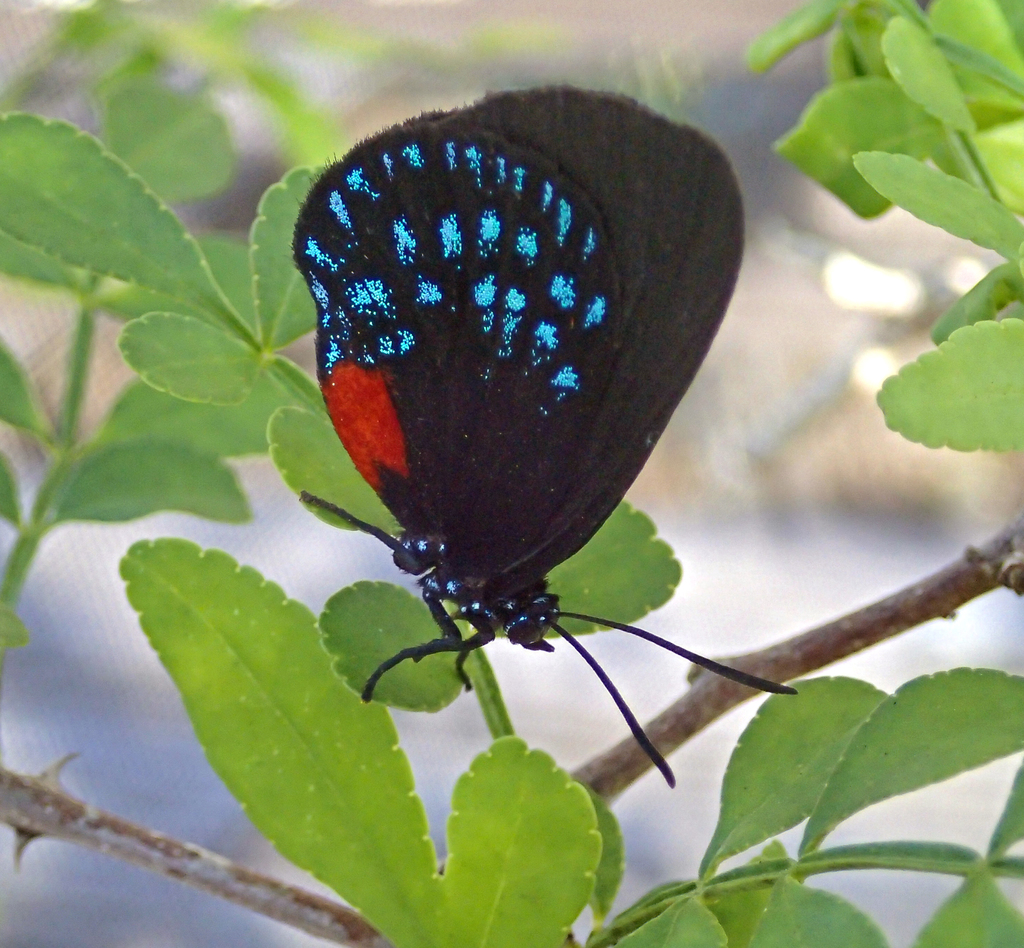Butterfly: (280, 72, 745, 742)
